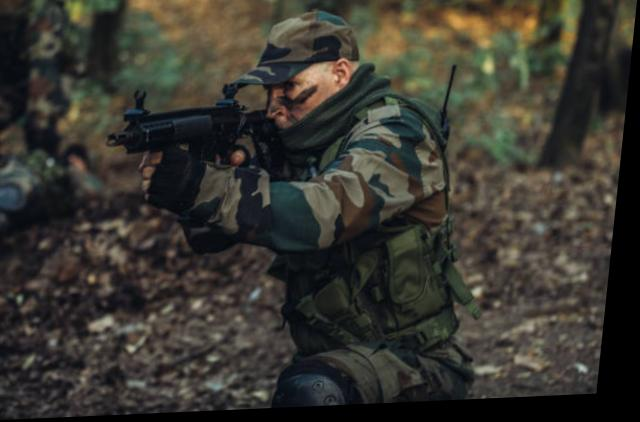other: (171, 16, 468, 404)
